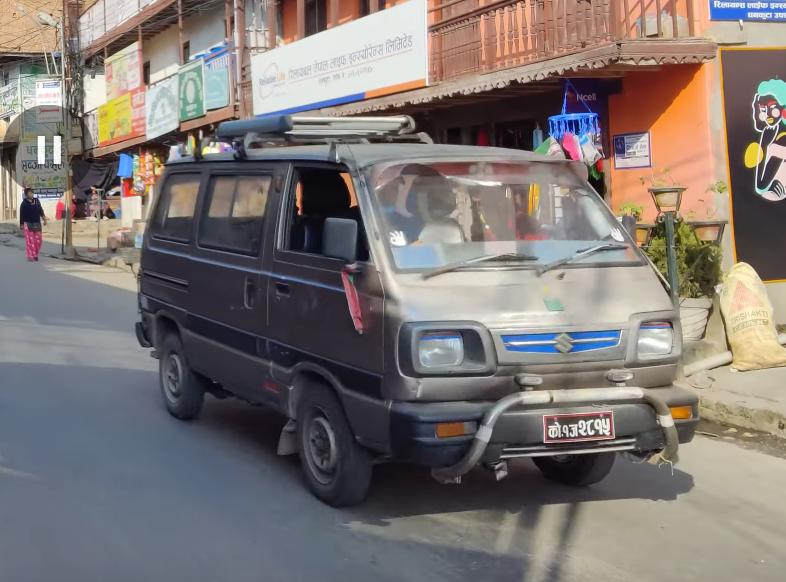van: (119, 103, 705, 510)
